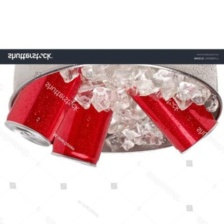can: (125, 80, 219, 156), (4, 67, 85, 146), (46, 88, 113, 170)
